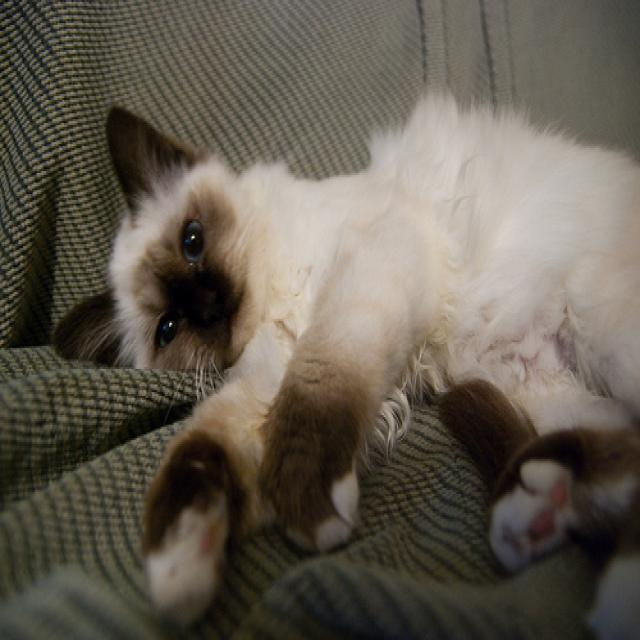Birman: (53, 106, 268, 369)
